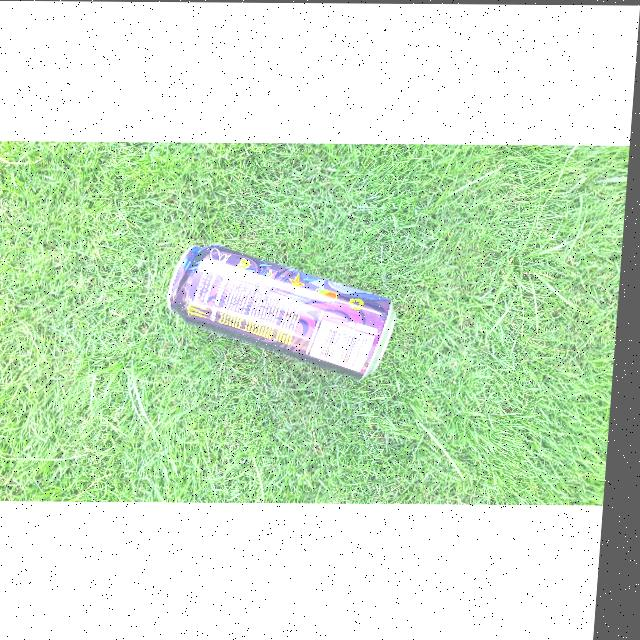Monster LH44: (167, 238, 403, 375)
